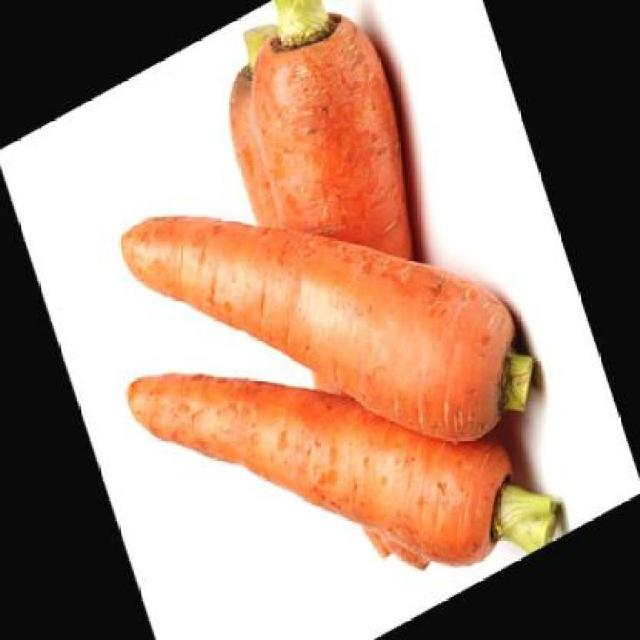carrot: (114, 62, 535, 570), (120, 214, 534, 638), (225, 0, 443, 317), (215, 61, 296, 228)
